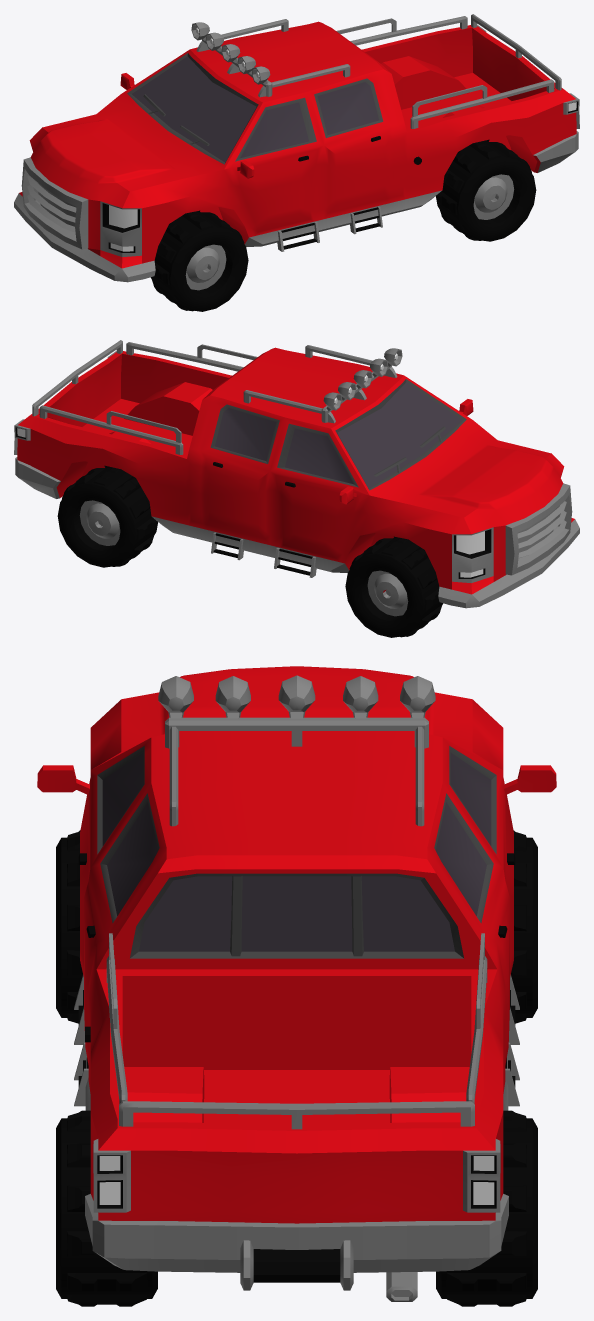
Rendered from Car3.fbx.
The picture shows the model from 3 angles, top to bottom: view 1: azimuth 30°, elevation 25°; view 2: azimuth 150°, elevation 25°; view 3: azimuth 270°, elevation 25°; orthographic projection. The views are drawn at different scales.
Visible parts, largest first — view 1: Car3; view 2: Car3; view 3: Car3.
Part boxes in pixels (x1=…): Car3: x1=14, y1=14, x2=579, y2=311; Car3: x1=14, y1=340, x2=579, y2=637; Car3: x1=37, y1=666, x2=556, y2=1306.
Size of the model in its own units: 489 by 193 by 219.
